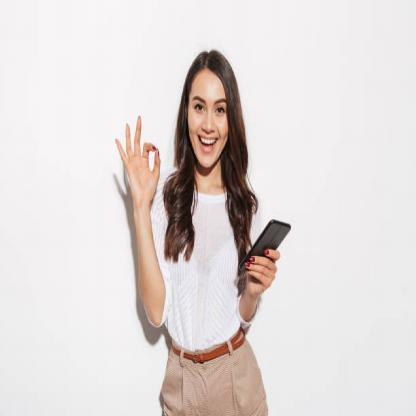ok: (113, 110, 164, 215)
